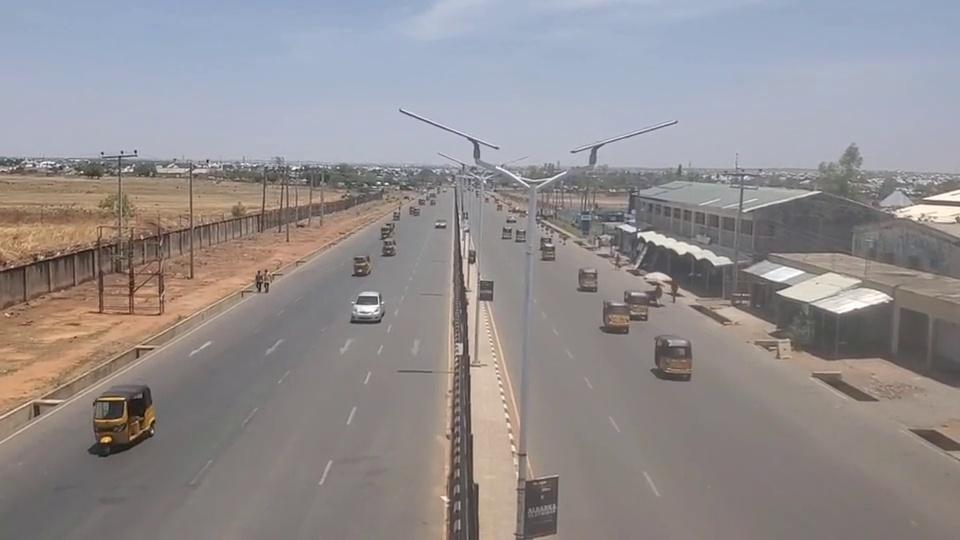car: (351, 291, 385, 322)
keke: (91, 383, 156, 452), (653, 334, 693, 378), (602, 300, 631, 332), (624, 290, 653, 318), (578, 268, 598, 291), (352, 256, 371, 276), (382, 239, 397, 256), (541, 243, 556, 260), (515, 228, 526, 242)
